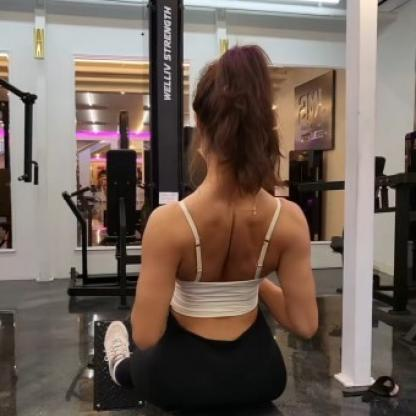Seated Cable Rows: (71, 1, 315, 416)
